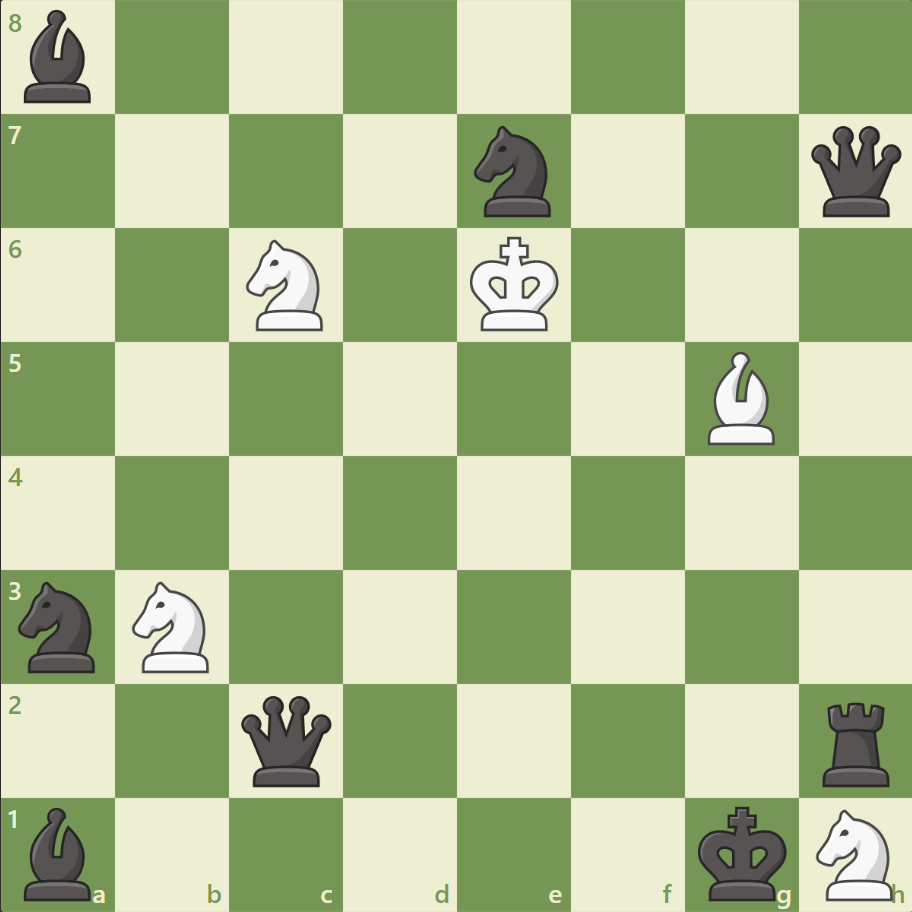B: (698, 347, 782, 449)
K: (465, 231, 565, 339)
N: (124, 575, 222, 677), (238, 234, 335, 337), (806, 802, 903, 904)
b: (17, 6, 101, 109), (17, 801, 101, 904)
k: (692, 798, 792, 906)
n: (465, 121, 562, 223), (11, 575, 108, 677)
q: (805, 122, 904, 222), (237, 690, 336, 789)
r: (814, 693, 897, 790)
